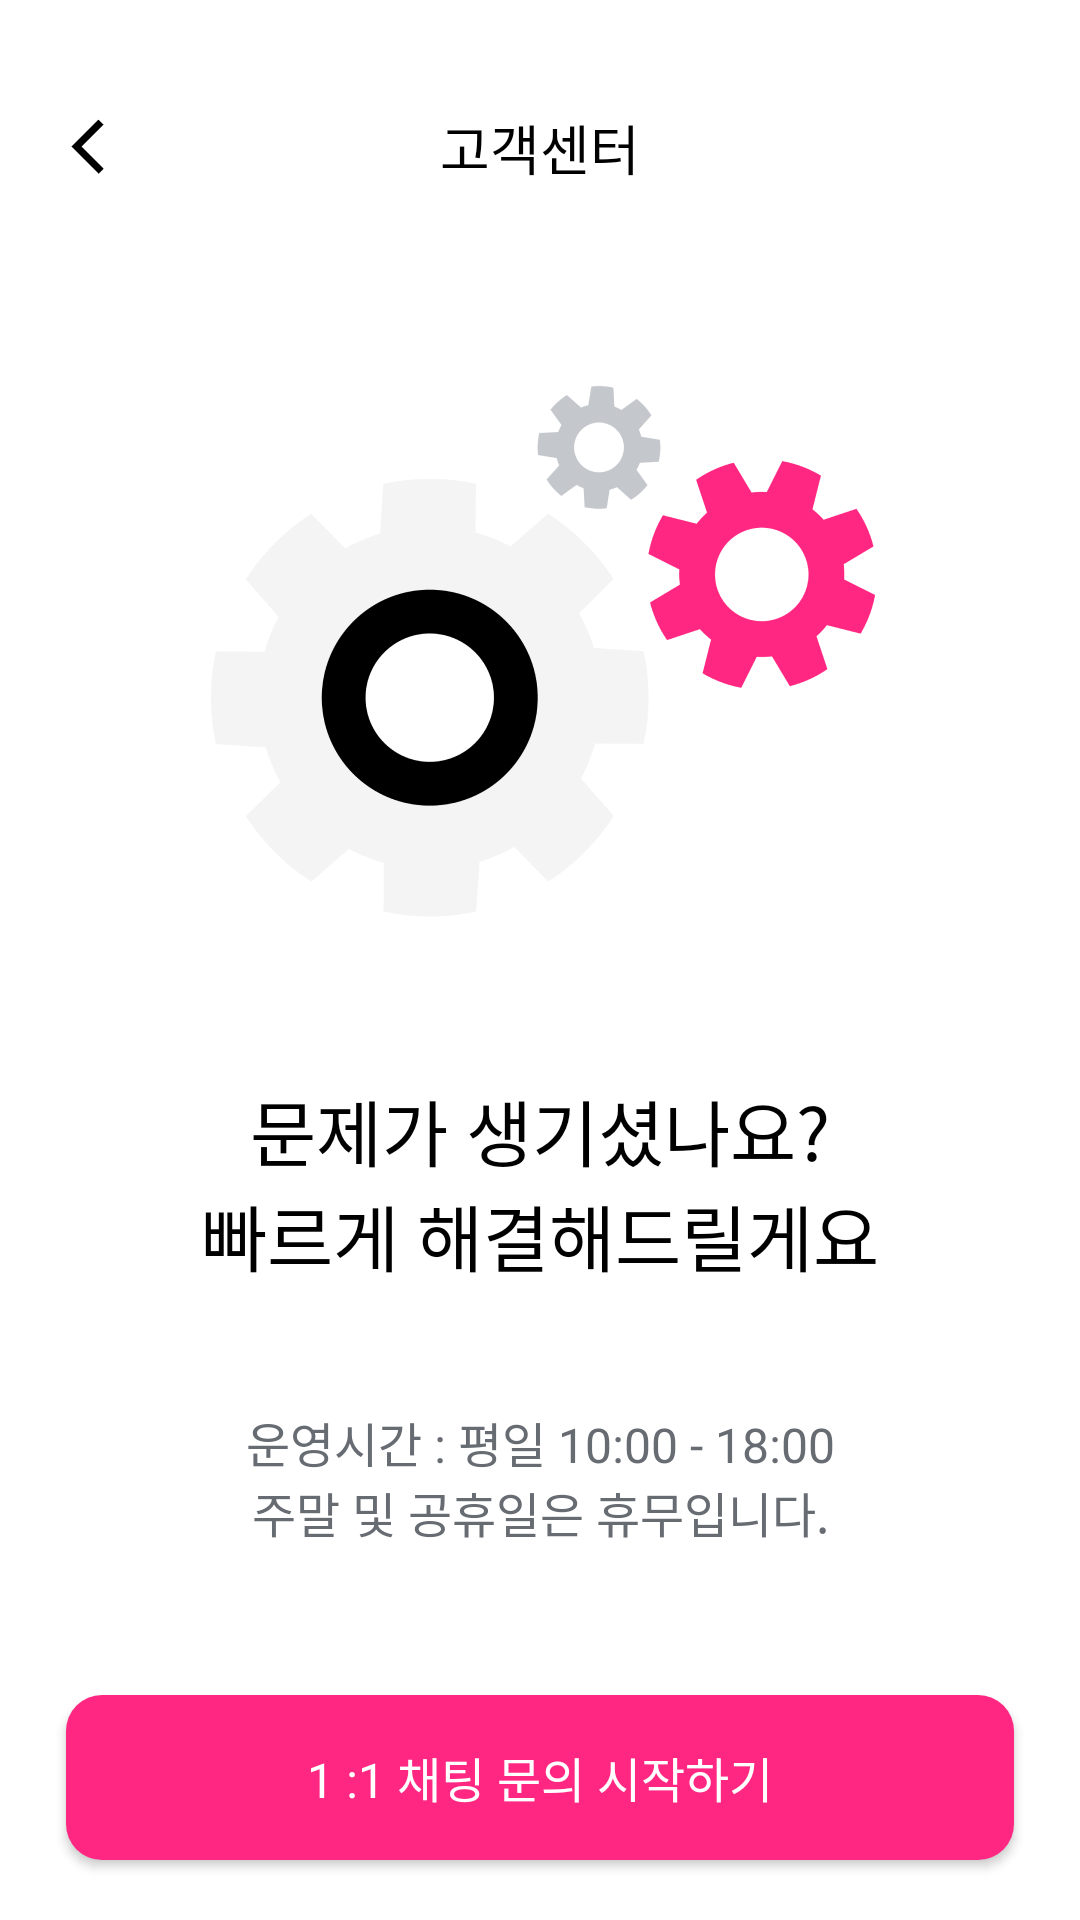

Icon bounding boxes for this 1080 x 1920 phone screenshot, format (x1,y1,x2,y2):
arrow left mono: (71,120,104,174)
